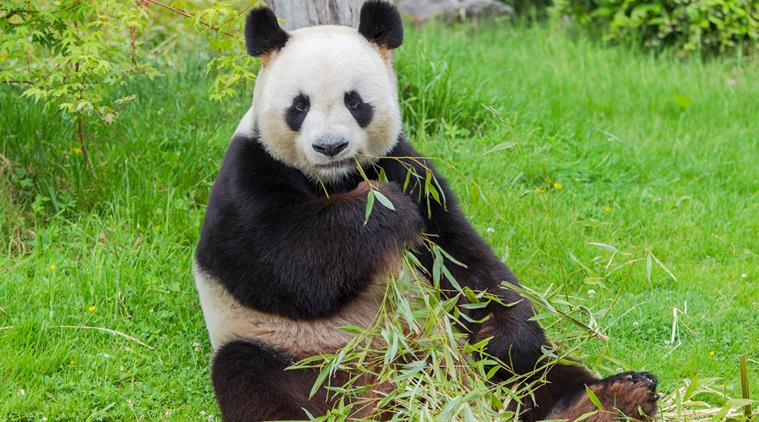panda: (193, 13, 660, 422)
